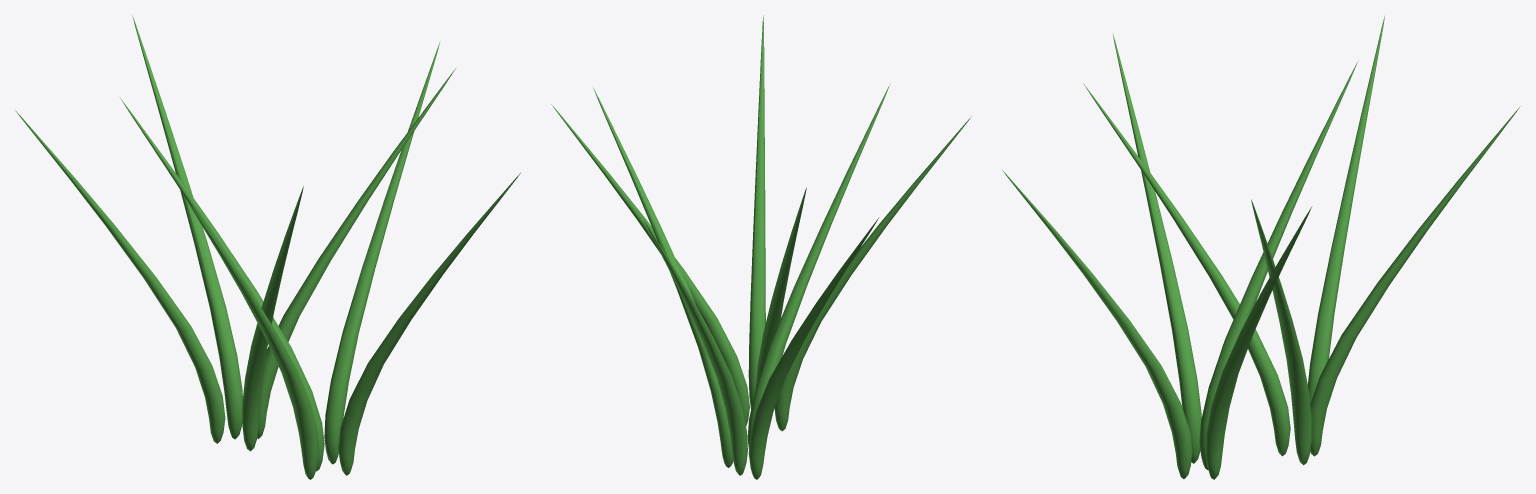
File: Grass 6.fbx
3 views of the same model, side by side, from view 1: azimuth 30°, elevation 25°; view 2: azimuth 150°, elevation 25°; view 3: azimuth 270°, elevation 25° (orthographic). The views are drawn at different scales.
Parts seen in each view (by area): view 1: Cube, Cube_4_6, Cube_4_5, Cube_4_4; view 2: Cube, Cube_4_5, Cube_4_4, Cube_4_6; view 3: Cube, Cube_4_4, Cube_4_5, Cube_4_6.
Boxes of the visible parts, x1,y1,x2,y2 form: Cube: (15, 15, 456, 471); Cube_4_6: (324, 42, 439, 464); Cube_4_5: (338, 173, 520, 475); Cube_4_4: (187, 200, 318, 479); Cube: (593, 84, 890, 479); Cube_4_5: (748, 15, 765, 409); Cube_4_4: (774, 116, 971, 431); Cube_4_6: (551, 104, 749, 426); Cube: (1083, 16, 1519, 469); Cube_4_4: (1112, 33, 1201, 463); Cube_4_5: (1002, 170, 1192, 478); Cube_4_6: (1205, 206, 1312, 479).
Size of the model in its own units: 63 by 54 by 72.38.
